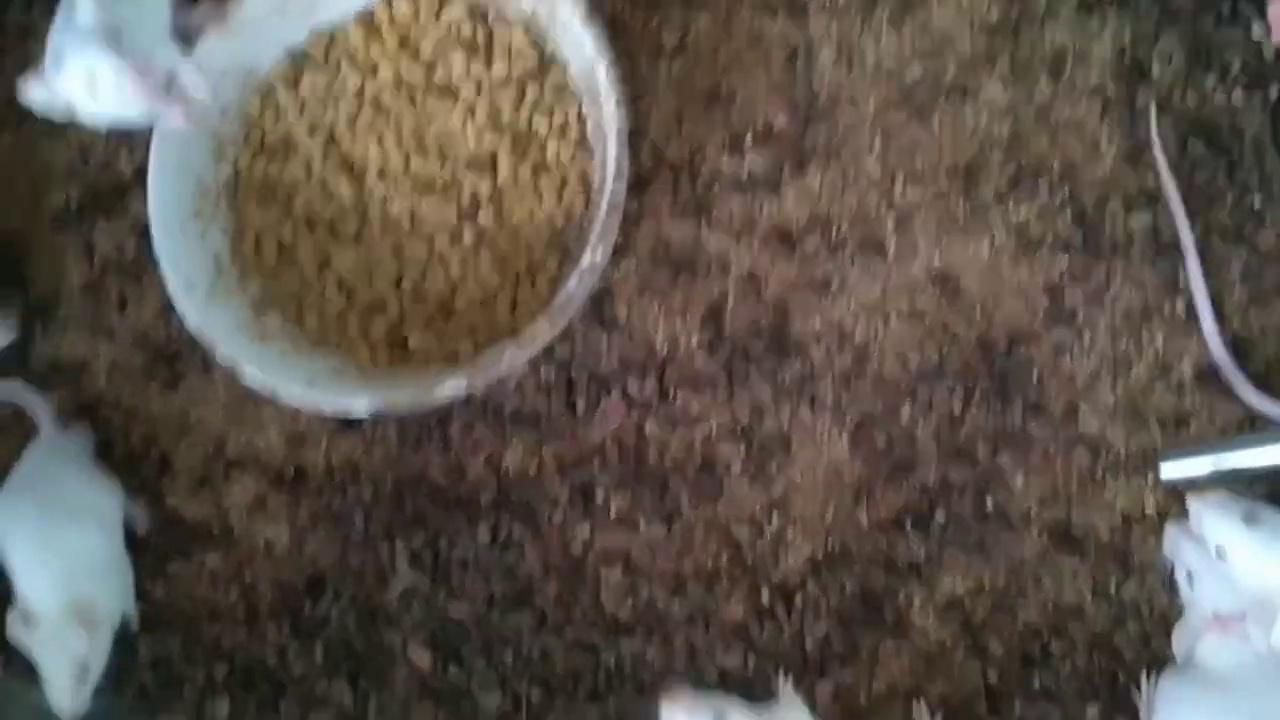rat: (0, 381, 153, 720)
